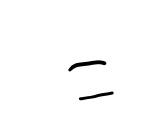eqv: (68, 60, 114, 100)
